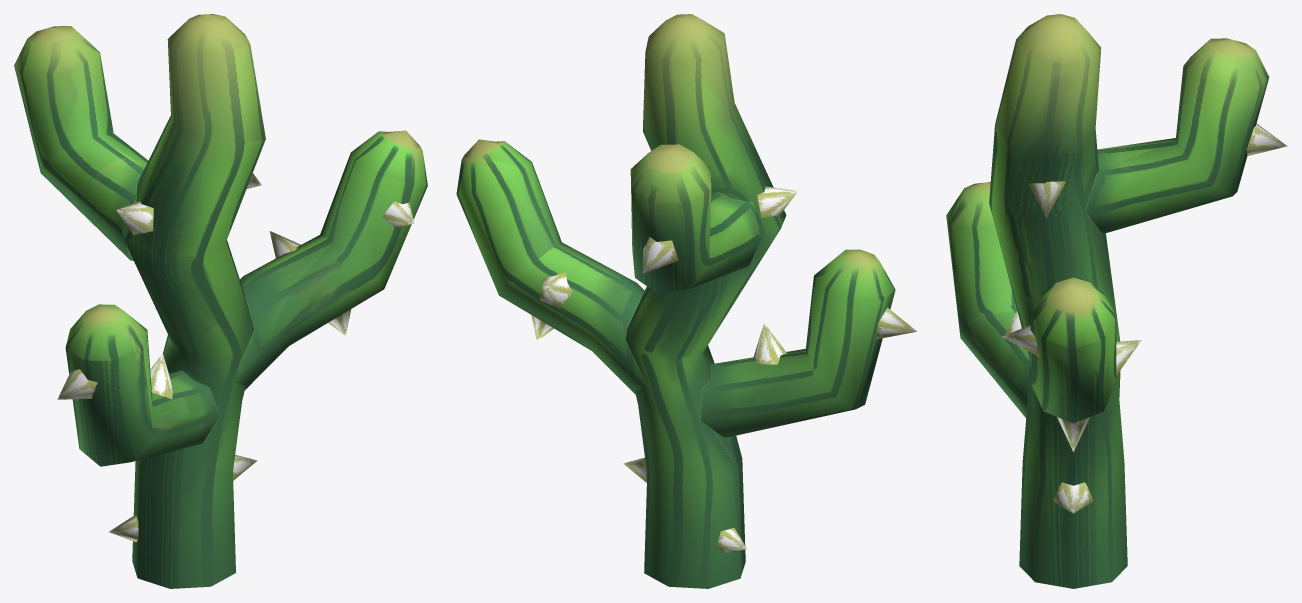
Rendered from cactus.glb.
3 views of the same model, side by side, from view 1: azimuth 30°, elevation 25°; view 2: azimuth 150°, elevation 25°; view 3: azimuth 270°, elevation 25° (orthographic). The views are drawn at different scales.
Parts seen in each view (by area): view 1: Plane; view 2: Plane; view 3: Plane.
Boxes of the visible parts, left/top/right/bottom form: Plane: left=14, top=14, right=427, bottom=588; Plane: left=456, top=14, right=916, bottom=588; Plane: left=946, top=14, right=1287, bottom=588.
Size of the model in its own units: 6.79 by 8.61 by 4.79.
Materials: 1 (1 with a texture image).
